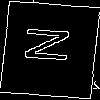N: (24, 25, 80, 65)
